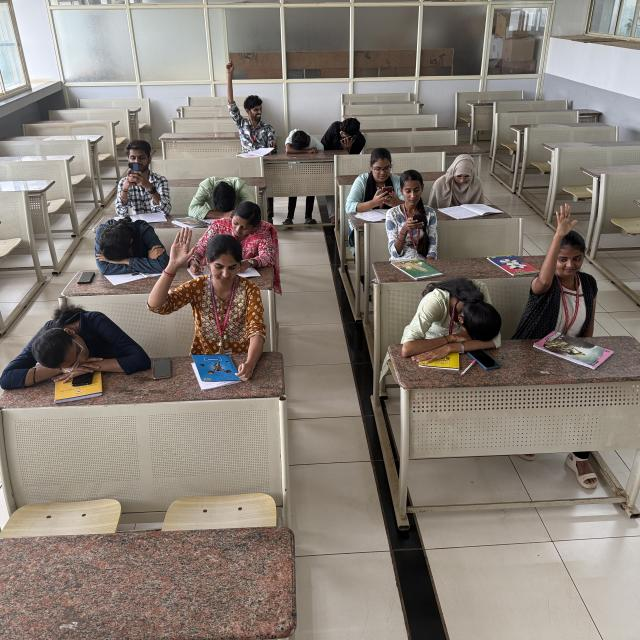Hand Rising: (143, 228, 274, 384), (527, 203, 608, 342), (209, 55, 281, 156)
Reading: (433, 149, 496, 216)
Sleeping: (5, 296, 136, 388), (396, 278, 500, 369), (82, 207, 173, 286), (188, 170, 262, 217), (282, 123, 326, 158)
Using Phone: (102, 134, 176, 220), (380, 168, 443, 268), (342, 144, 404, 223), (317, 114, 369, 160)
Writing: (184, 195, 283, 278)
